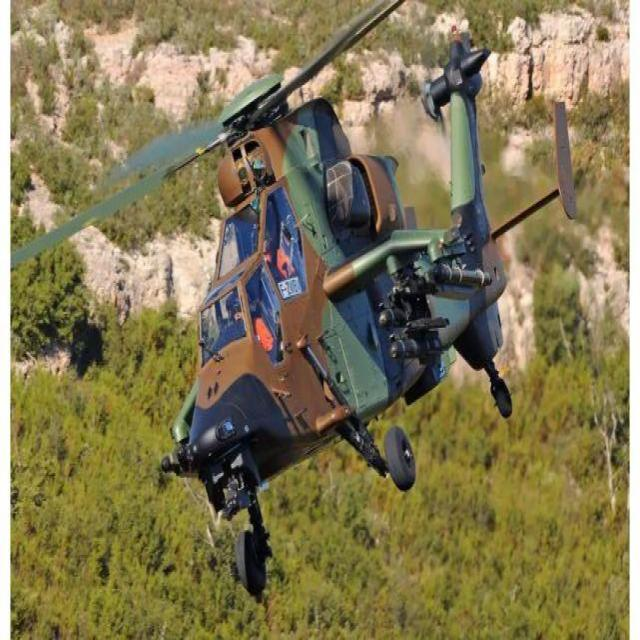MIL_HELO: (11, 0, 640, 600)
